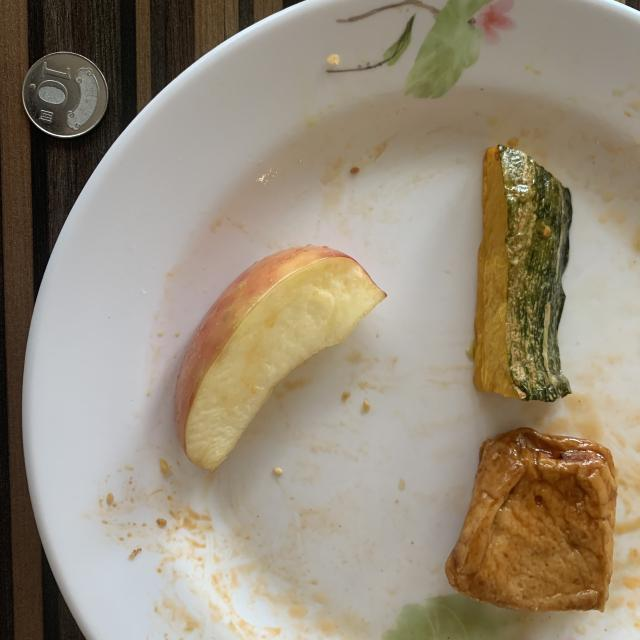apple -sliced-: (175, 246, 385, 470)
coin: (22, 52, 108, 138)
creamy tofu: (445, 428, 616, 611)
pumpkin: (474, 145, 572, 401)
